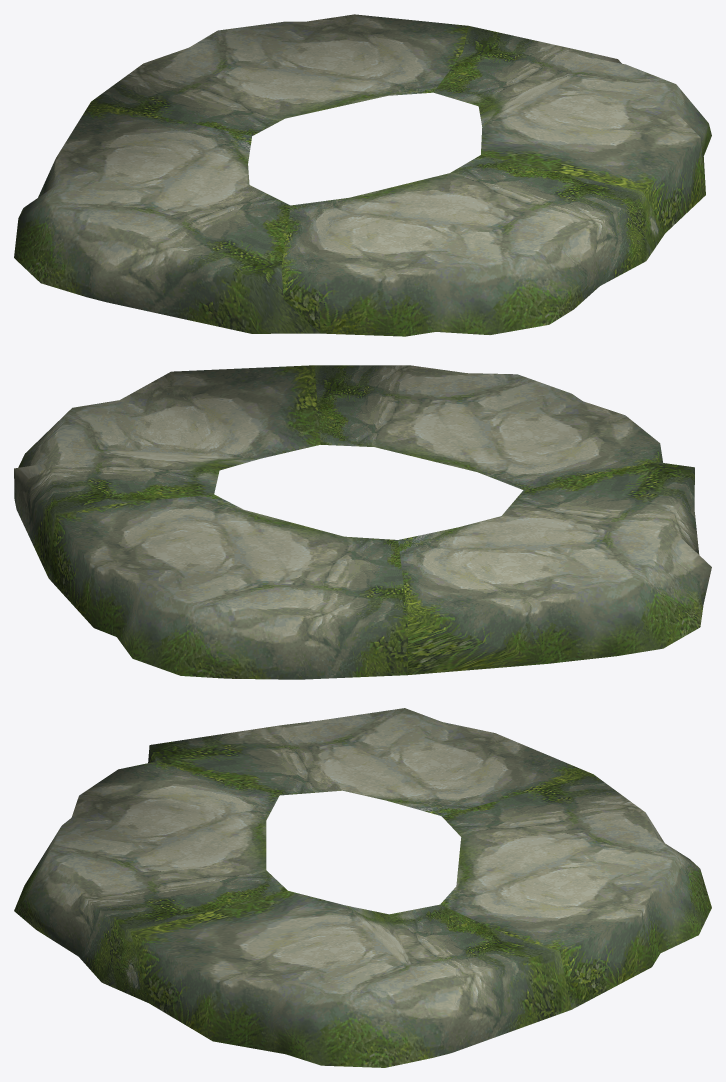
The model's file is xl_shitou_1_2.FBX.
3 renders of one model, top to bottom at view 1: azimuth 30°, elevation 25°; view 2: azimuth 150°, elevation 25°; view 3: azimuth 270°, elevation 25°, orthographic. The views are drawn at different scales.
Parts seen in each view (by area): view 1: xl_shitou_1_2; view 2: xl_shitou_1_2; view 3: xl_shitou_1_2.
Boxes of the visible parts, bbox=[...] form: xl_shitou_1_2: bbox=[14, 14, 711, 336]; xl_shitou_1_2: bbox=[14, 365, 711, 679]; xl_shitou_1_2: bbox=[14, 708, 711, 1067].
Bounding box in the file's own units: 4336 × 3978 × 369.
